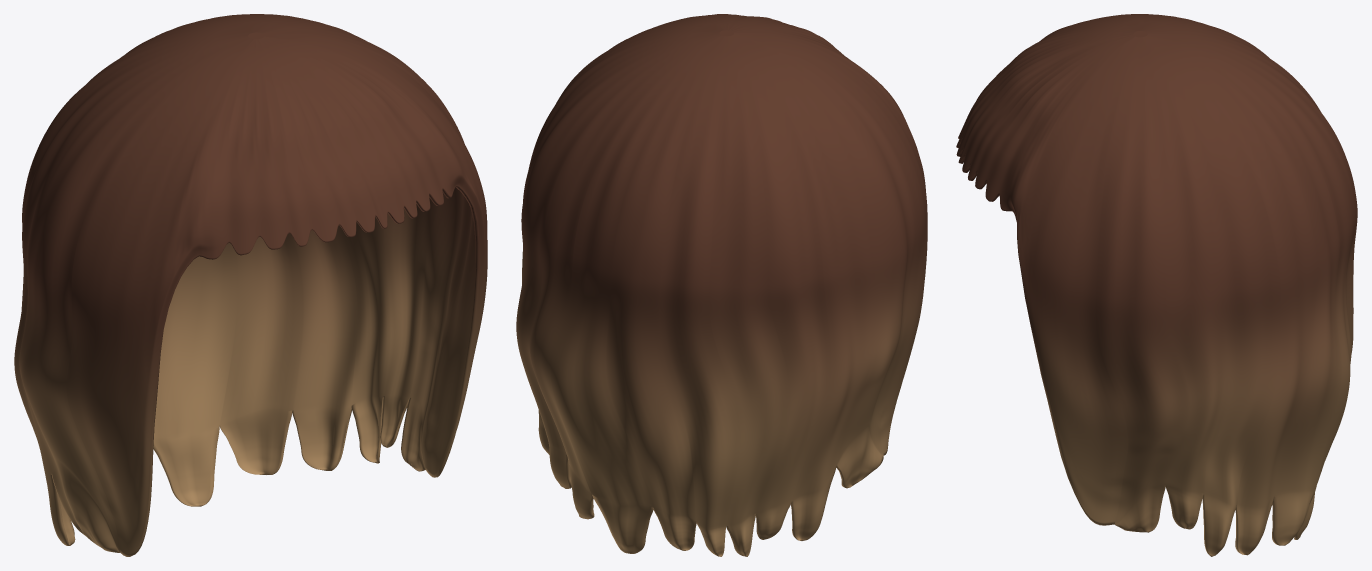
Rendered from long-none-ombre.glb.
3 renders of one model, left to right at view 1: azimuth 30°, elevation 25°; view 2: azimuth 150°, elevation 25°; view 3: azimuth 270°, elevation 25°, orthographic. The views are drawn at different scales.
Visible parts, largest first — view 1: Hair / rounded long fringe; view 2: Hair / rounded long fringe; view 3: Hair / rounded long fringe.
Boxes of the visible parts, <box> form: Hair / rounded long fringe: <box>14,14,487,556</box>; Hair / rounded long fringe: <box>516,14,927,556</box>; Hair / rounded long fringe: <box>956,14,1357,556</box>.
Bounding box in the file's own units: 0.8534 × 1.06 × 0.7801.
